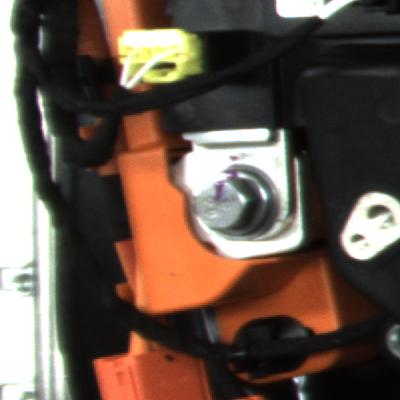nut_b: (185, 158, 286, 252)
